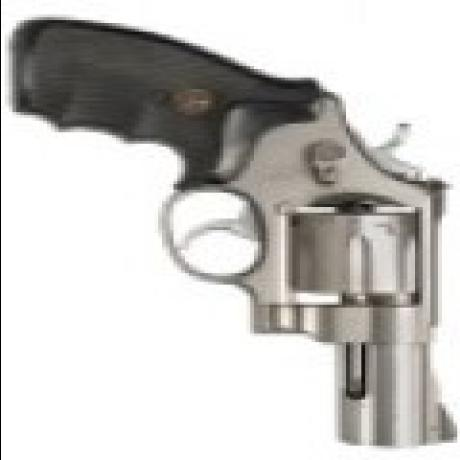weapon: (14, 15, 456, 448)
